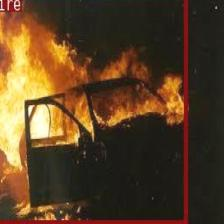fire: (0, 0, 187, 224)
